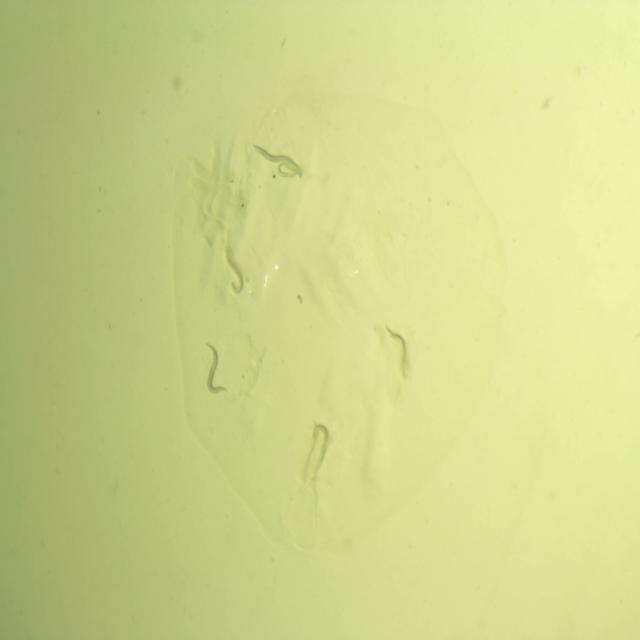worm: (250, 139, 304, 174), (203, 338, 232, 398), (383, 319, 411, 378), (222, 245, 250, 297), (310, 420, 333, 474), (277, 158, 303, 183)
